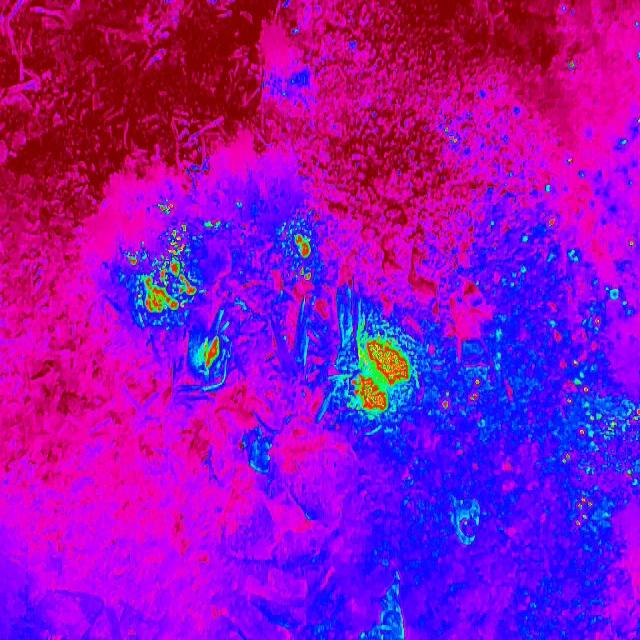fire: (537, 211, 640, 533), (123, 223, 199, 316), (347, 328, 414, 422), (290, 226, 314, 282), (194, 332, 222, 377), (150, 197, 178, 217), (439, 124, 460, 148), (468, 378, 483, 404), (564, 54, 580, 74), (439, 392, 452, 413), (234, 199, 246, 211)
